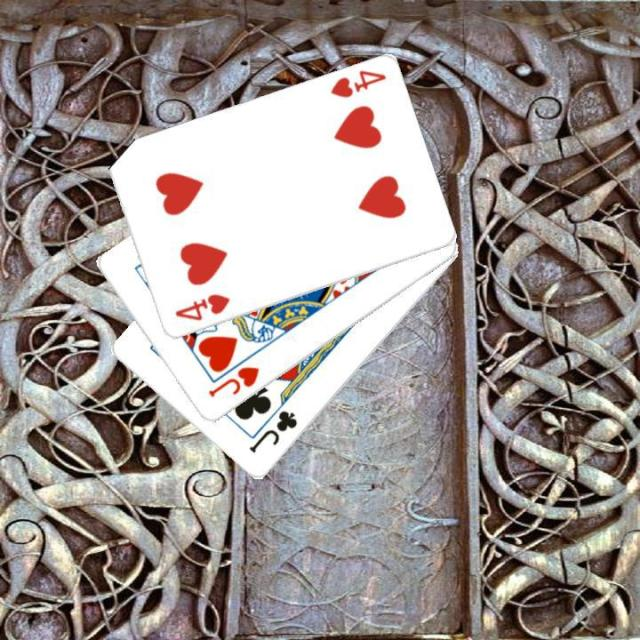4H: (326, 66, 388, 100), (171, 290, 231, 324)
JC: (246, 406, 300, 455)
JH: (204, 363, 262, 400)
